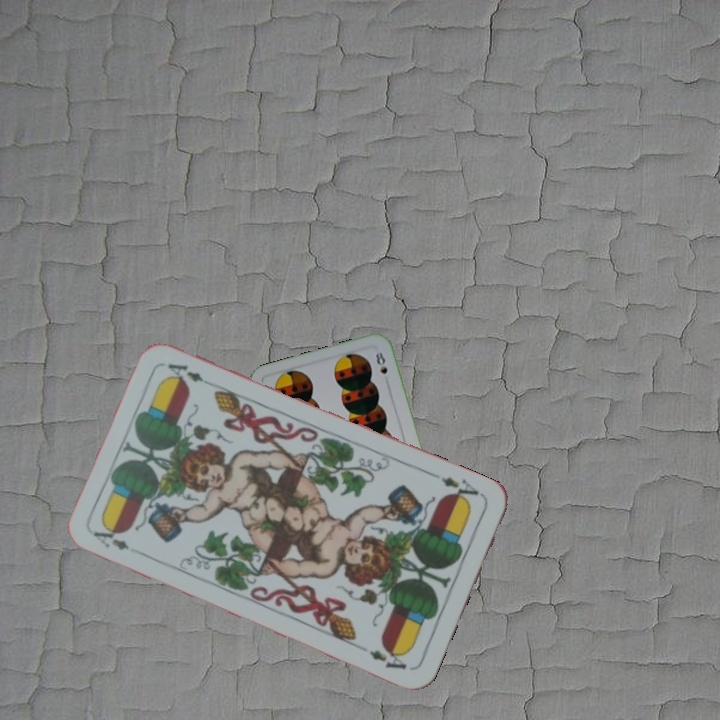EA: (437, 472, 486, 506), (89, 521, 132, 553)
